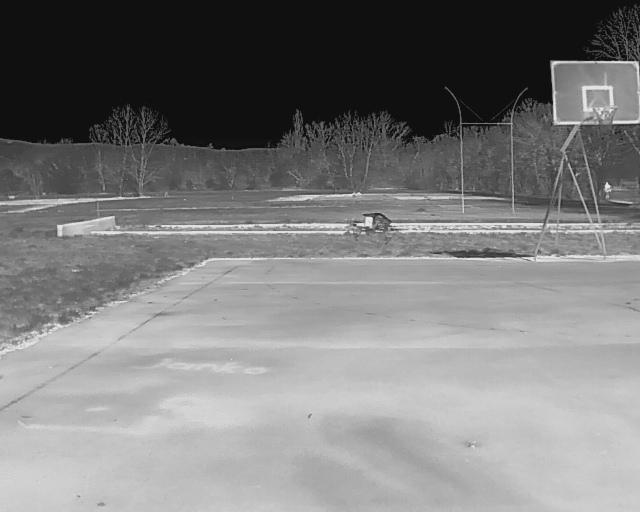drone: (335, 202, 404, 248)
